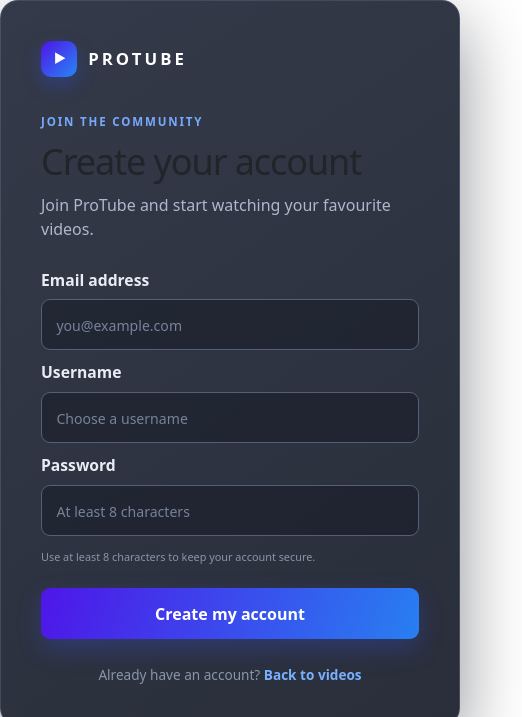
it: RegistrationForm › shows a server error for an unexpected API response
Type "user@example.com" into the field labelled "Email address" at (230, 325), box [41,299,419,350]
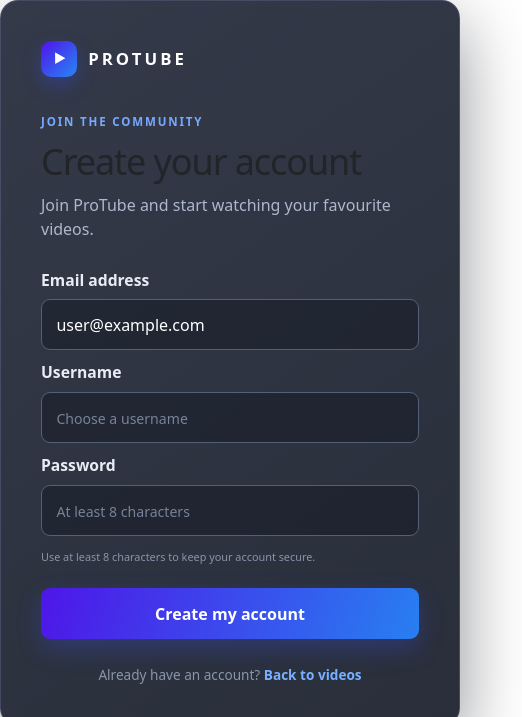
Type "player_1" into the field labelled "Username" at (230, 418), box [41,392,419,443]
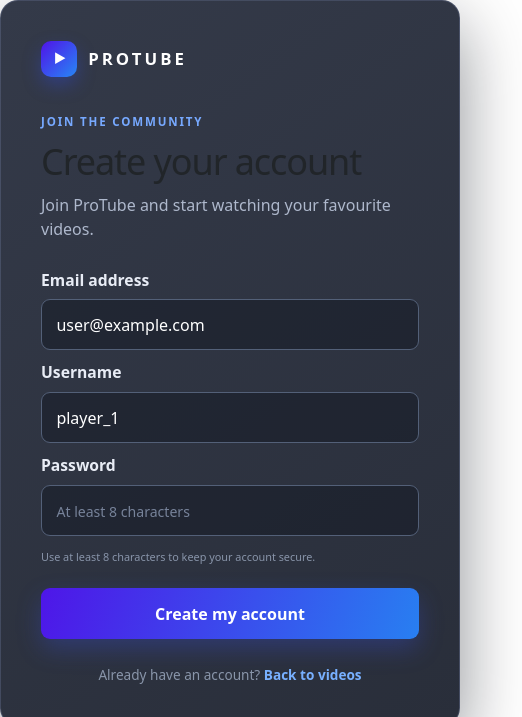
Type "secret123" into the password field labelled "Password" at (230, 510), box [41,485,419,536]
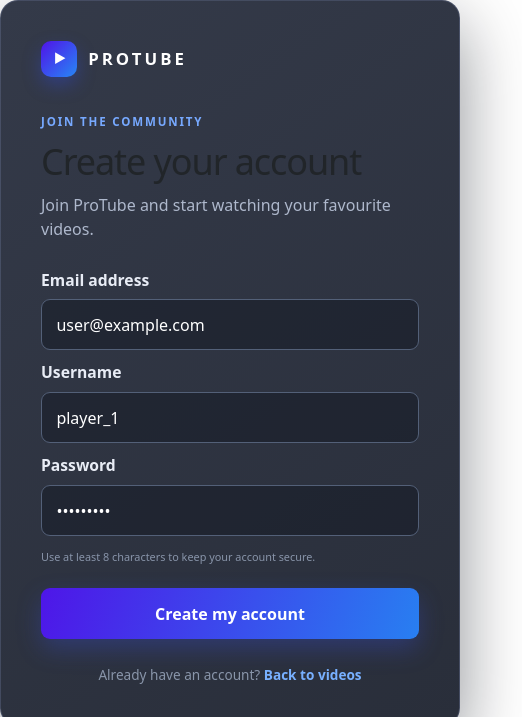
Click the button "Create my account" at (230, 614), box [41,588,419,640]
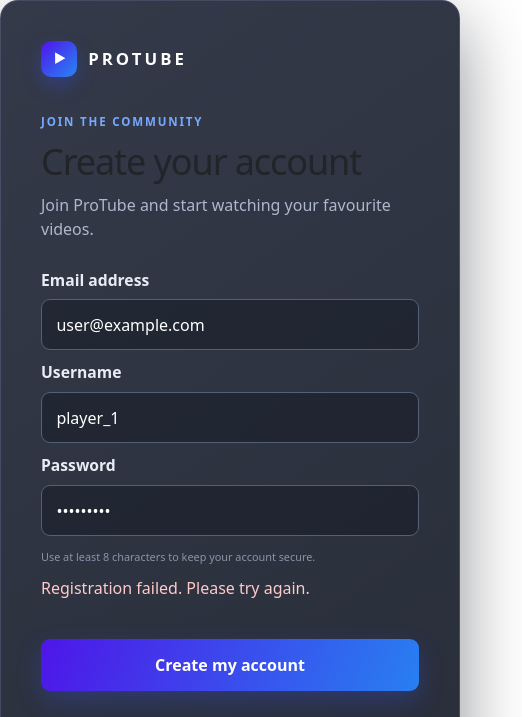
Check: the text "Registration failed. Please try again." is shown, box [41,577,310,599]
